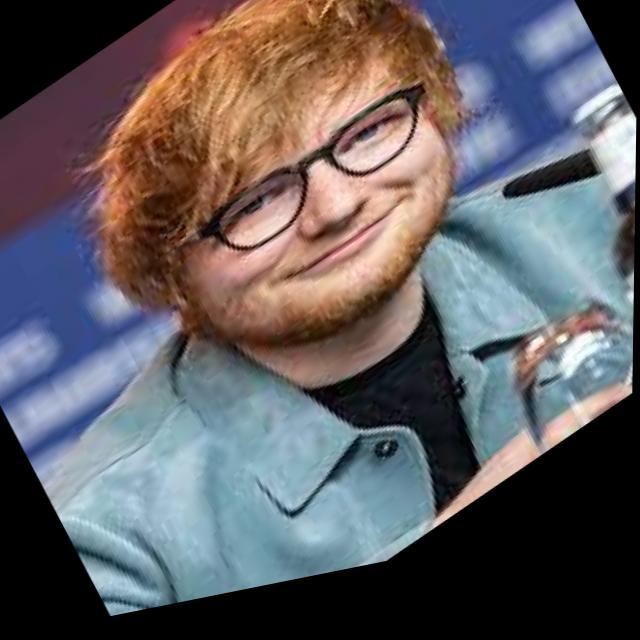Nonhelmet: (76, 0, 474, 364)
